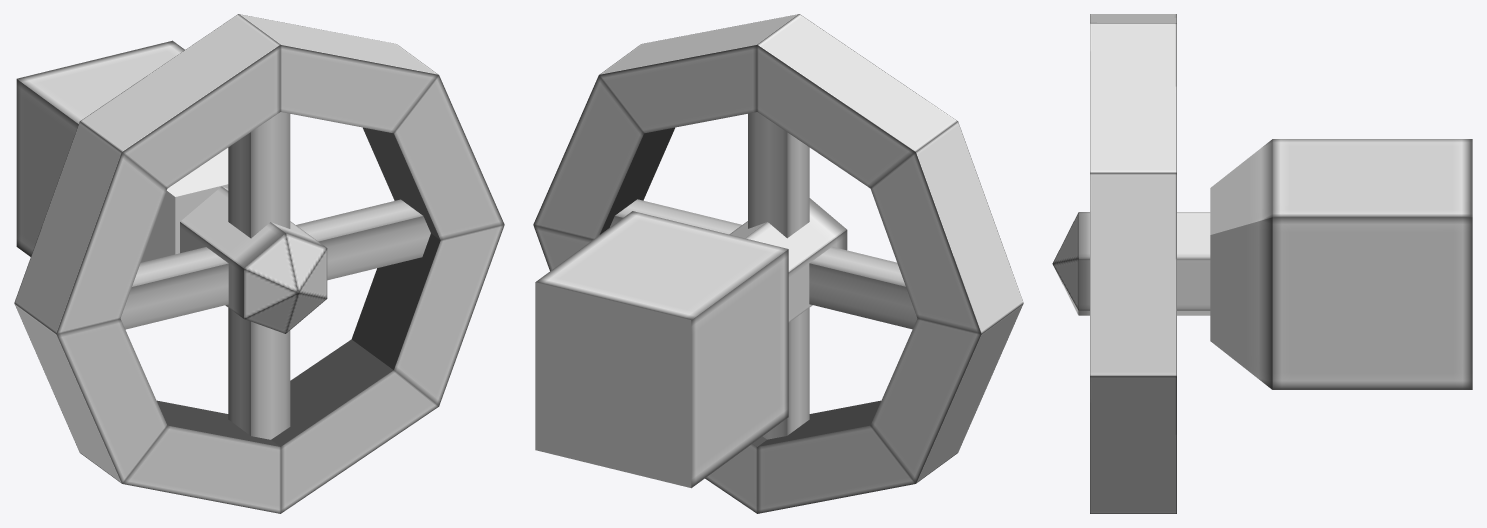
File: Valve-01.fbx
3 renders of one model, left to right at view 1: azimuth 30°, elevation 25°; view 2: azimuth 150°, elevation 25°; view 3: azimuth 270°, elevation 25°, orthographic. The views are drawn at different scales.
Parts seen in each view (by area): view 1: Valve_01; view 2: Valve_01; view 3: Valve_01.
Part boxes in pixels (x1,y1,x2,y2): Valve_01: [14, 14, 504, 513]; Valve_01: [533, 14, 1023, 513]; Valve_01: [1052, 14, 1472, 513].
Bounding box in the file's own units: 0.4001 × 0.4001 × 0.316.
